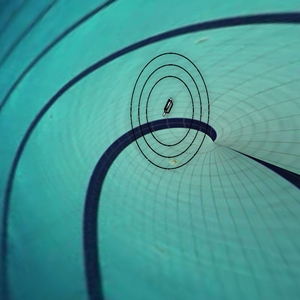circle: (108, 44, 242, 186)
submarine: (157, 94, 178, 119)
